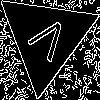V: (21, 13, 72, 70)
